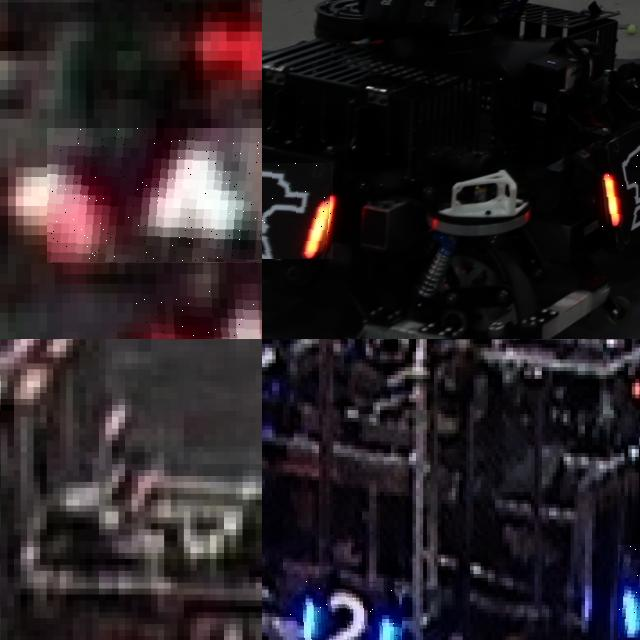B2: (286, 578, 401, 640), (617, 544, 640, 638)
R4: (46, 128, 262, 264), (133, 283, 262, 339)
Rs: (262, 163, 332, 259), (598, 137, 640, 230)
